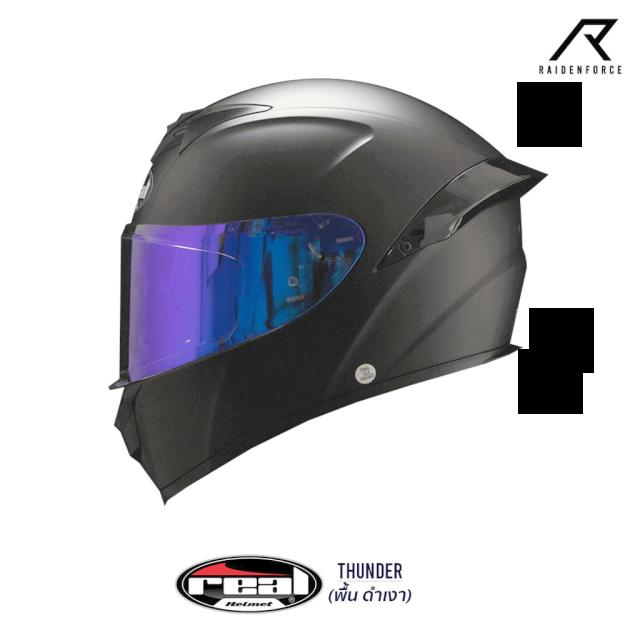Helmet: (115, 80, 544, 499)
